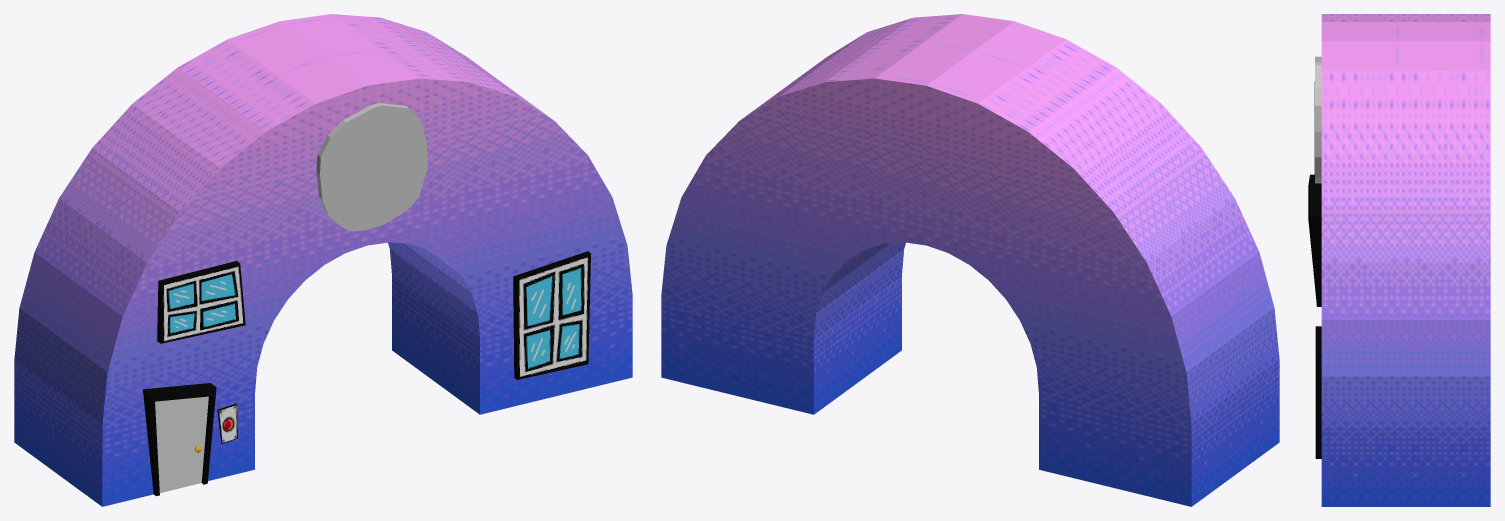
Rendered from House8 1.fbx.
3 renders of one model, left to right at view 1: azimuth 30°, elevation 25°; view 2: azimuth 150°, elevation 25°; view 3: azimuth 270°, elevation 25°, orthographic. The views are drawn at different scales.
Visible parts, largest first — view 1: House 8, Plane.014, Plane.000, Door.003, Plane.018, Doorbell 1; view 2: House 8; view 3: House 8, Door.003, Plane.000, Plane.014.
Part boxes in pixels (<box>): House 8: <box>14,14,632,506</box>; Plane.014: <box>316,103,427,231</box>; Plane.000: <box>513,251,590,379</box>; Door.003: <box>143,383,216,496</box>; Plane.018: <box>157,261,245,343</box>; Doorbell 1: <box>217,403,237,443</box>; House 8: <box>661,14,1279,506</box>; House 8: <box>1321,14,1490,506</box>; Door.003: <box>1308,174,1321,306</box>; Plane.000: <box>1315,326,1321,458</box>; Plane.014: <box>1315,56,1321,183</box>.
Bounding box in the file's own units: 135 × 86.6 × 41.82.
